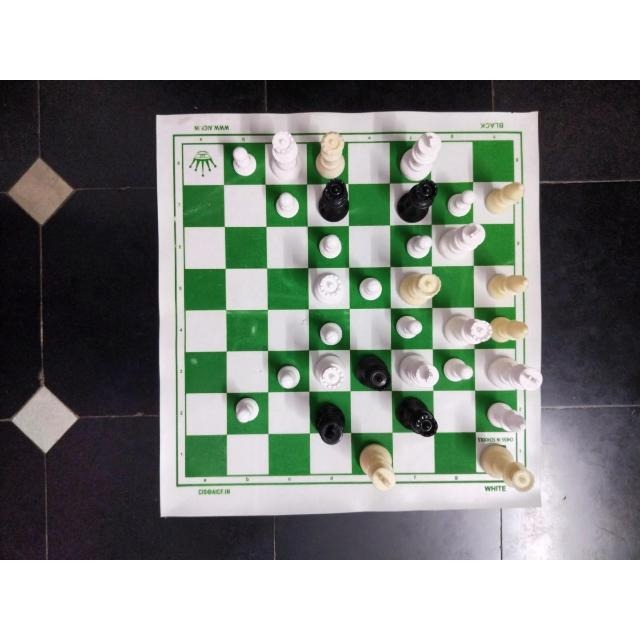black-queen: (394, 392, 441, 444), (394, 184, 439, 222), (309, 183, 349, 225), (352, 354, 391, 390)
white-bishop: (485, 400, 527, 436), (487, 265, 529, 300), (484, 180, 523, 216), (491, 309, 529, 341)
white-king: (487, 352, 544, 395), (358, 437, 398, 493), (400, 132, 439, 180), (439, 226, 487, 260), (316, 401, 348, 449)
white-pawn: (352, 272, 388, 303), (445, 350, 475, 384), (273, 362, 307, 390), (271, 192, 301, 223), (403, 232, 433, 262), (448, 187, 476, 219), (226, 146, 254, 177), (313, 229, 343, 257), (396, 311, 422, 341), (317, 318, 345, 344), (236, 394, 259, 425)
white-queen: (481, 441, 538, 493), (440, 312, 490, 347), (396, 353, 439, 393), (268, 132, 304, 177), (313, 130, 346, 177), (399, 270, 440, 306), (311, 354, 348, 391)
